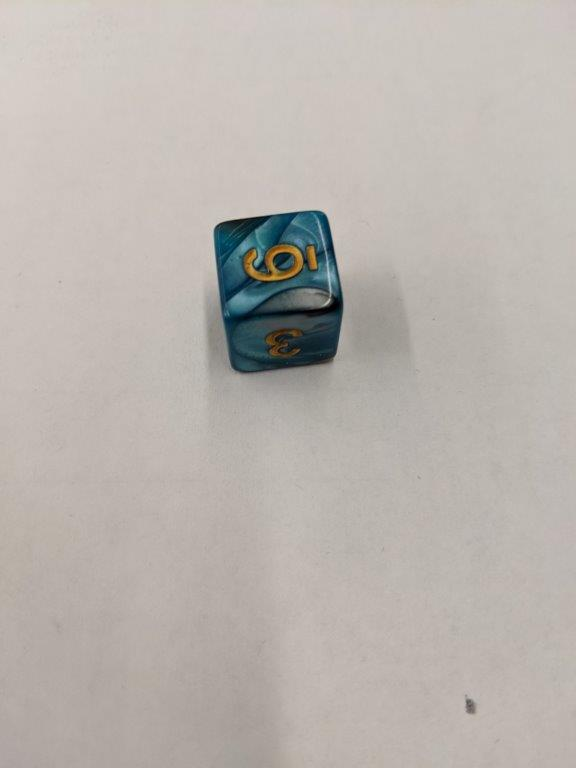d6-6: (214, 208, 346, 373)
